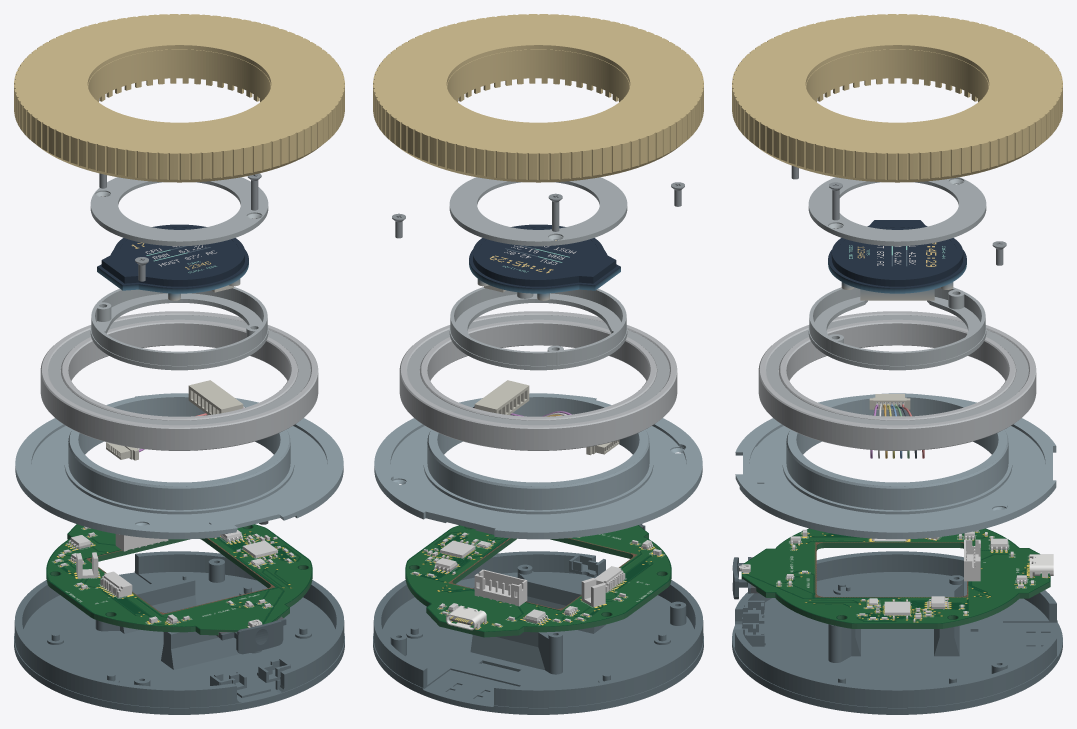
Rendered from exploded.glb.
3 renders of one model, left to right at view 1: azimuth 30°, elevation 25°; view 2: azimuth 150°, elevation 25°; view 3: azimuth 270°, elevation 25°, orthographic.
Visible parts, largest first — view 1: knob, base, lid, bearing, pcb-Box0_cd23e0, screen-carrier, screen-module, screen-bezel, pcb-Box0_0d46e2, button-cap, lcd-cable-screen-plug, fasteners (+3 smaller); view 2: knob, base, lid, bearing, pcb-Box0_cd23e0, screen-carrier, screen-module, screen-bezel, pcb-Box0_0d46e2, pcb-J4, lcd-cable-screen-plug, fasteners (+3 smaller); view 3: knob, base, lid, bearing, pcb-Box0_cd23e0, screen-module, screen-carrier, screen-bezel, pcb-Box0_0d46e2, pcb-J4, fasteners, screen-ui (+1 smaller).
Part boxes in pixels (x1,y1,x2,y2): knob: (14,14,344,182); base: (14,551,344,714); lid: (15,393,343,539); bearing: (40,311,318,450); pcb-Box0_cd23e0: (46,524,312,630); screen-carrier: (90,287,268,370); screen-module: (97,224,248,300); screen-bezel: (90,177,268,246); pcb-Box0_0d46e2: (46,525,312,635); button-cap: (220,618,286,654); lcd-cable-screen-plug: (188,380,243,414); fasteners: (99,173,261,281); knob: (373,14,703,182); base: (373,551,703,714); lid: (374,393,702,539); bearing: (399,311,677,450); pcb-Box0_cd23e0: (405,525,671,631); screen-carrier: (449,287,627,370); screen-module: (469,224,620,300); screen-bezel: (449,177,627,246); pcb-Box0_0d46e2: (405,526,671,637); pcb-J4: (474,569,527,606); lcd-cable-screen-plug: (474,380,529,414); fasteners: (392,182,684,238); knob: (732,14,1062,182); base: (732,551,1062,714); lid: (735,393,1056,539); bearing: (758,311,1036,450); pcb-Box0_cd23e0: (741,528,1050,623); screen-module: (828,220,966,300); screen-carrier: (808,287,986,370); screen-bezel: (808,177,986,246); pcb-Box0_0d46e2: (741,542,1050,628); pcb-J4: (964,539,980,581); fasteners: (791,166,1006,265); screen-ui: (849,242,945,266).
Size of the model in its own units: 0.0894 by 0.1673 by 0.0894.
7 materials, 2 textured.
